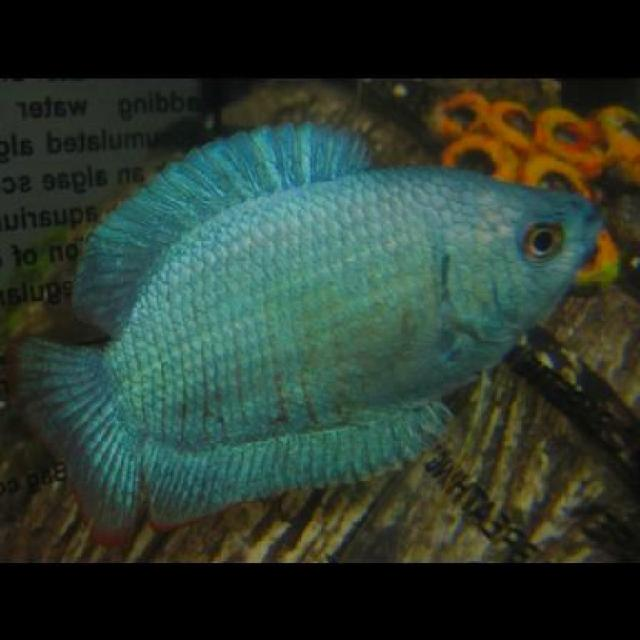Gourami: (14, 120, 608, 538)
